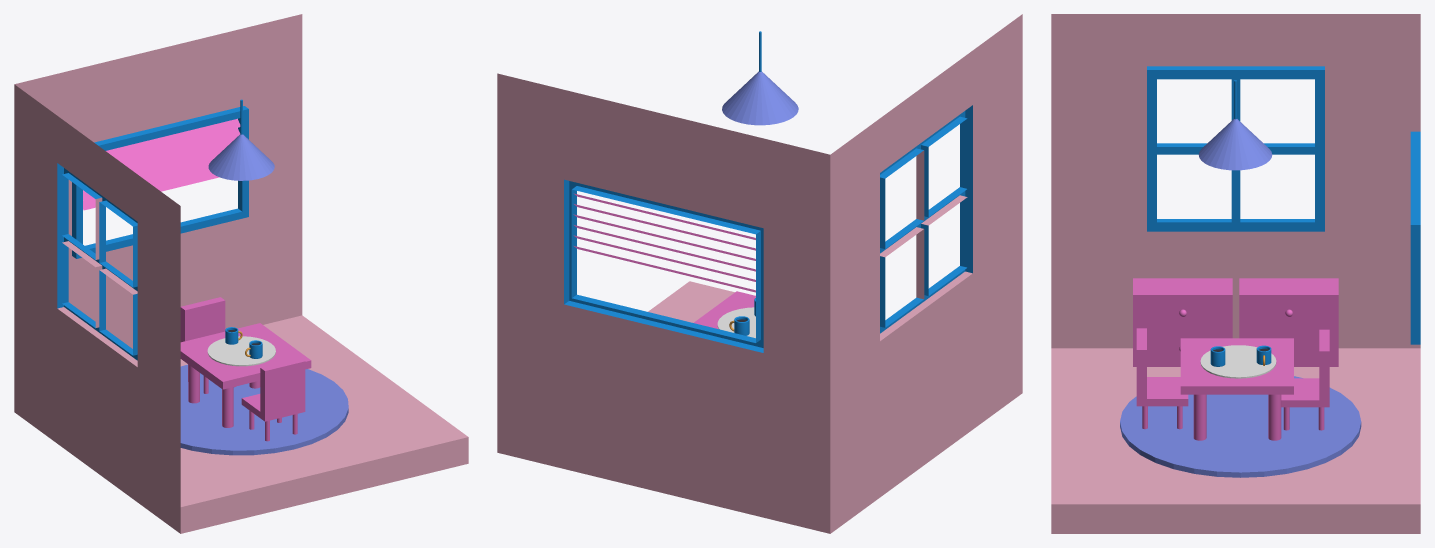
Rendered from heya.glb.
3 views of the same model, side by side, from view 1: azimuth 30°, elevation 25°; view 2: azimuth 150°, elevation 25°; view 3: azimuth 270°, elevation 25° (orthographic). The views are drawn at different scales.
Visible parts, largest first — view 1: Cube, 円柱.002, 立方体, 立方体.006, 円錐, 立方体.001, 円柱.003, 平面.001, 平面.002, 平面.003, 平面.004, 平面.006 (+1 smaller); view 2: Cube, 円錐, 立方体, 円柱.003; view 3: Cube, 円柱.002, 立方体.005, 立方体.003, 立方体, 円錐, 立方体.006, 立方体.001, 立方体.002, 立方体.004, 円柱.003, 円柱.016 (+1 smaller).
Part boxes in pixels (<box>): Cube: <box>14,14,468,533</box>; 円柱.002: <box>180,364,348,455</box>; 立方体: <box>180,323,311,389</box>; 立方体.006: <box>241,358,305,421</box>; 円錐: <box>208,134,274,180</box>; 立方体.001: <box>180,297,225,342</box>; 円柱.003: <box>207,336,275,366</box>; 平面.001: <box>106,119,240,157</box>; 平面.002: <box>115,128,240,164</box>; 平面.003: <box>124,137,236,171</box>; 平面.004: <box>83,149,223,192</box>; 平面.006: <box>83,171,219,210</box>; Cube: <box>497,14,1022,533</box>; 円錐: <box>722,71,798,125</box>; 立方体: <box>694,291,755,328</box>; 円柱.003: <box>717,307,755,338</box>; Cube: <box>1051,14,1420,533</box>; 円柱.002: <box>1120,376,1361,477</box>; 立方体.005: <box>1239,278,1338,331</box>; 立方体.003: <box>1133,278,1232,331</box>; 立方体: <box>1180,338,1293,394</box>; 円錐: <box>1198,119,1272,170</box>; 立方体.006: <box>1136,328,1188,406</box>; 立方体.001: <box>1281,329,1329,407</box>; 立方体.002: <box>1133,331,1232,366</box>; 立方体.004: <box>1239,331,1338,366</box>; 円柱.003: <box>1200,345,1276,378</box>; 円柱.016: <box>1193,394,1206,440</box>.
Bounding box in the file's own units: 1.98 × 2.22 × 1.98.
